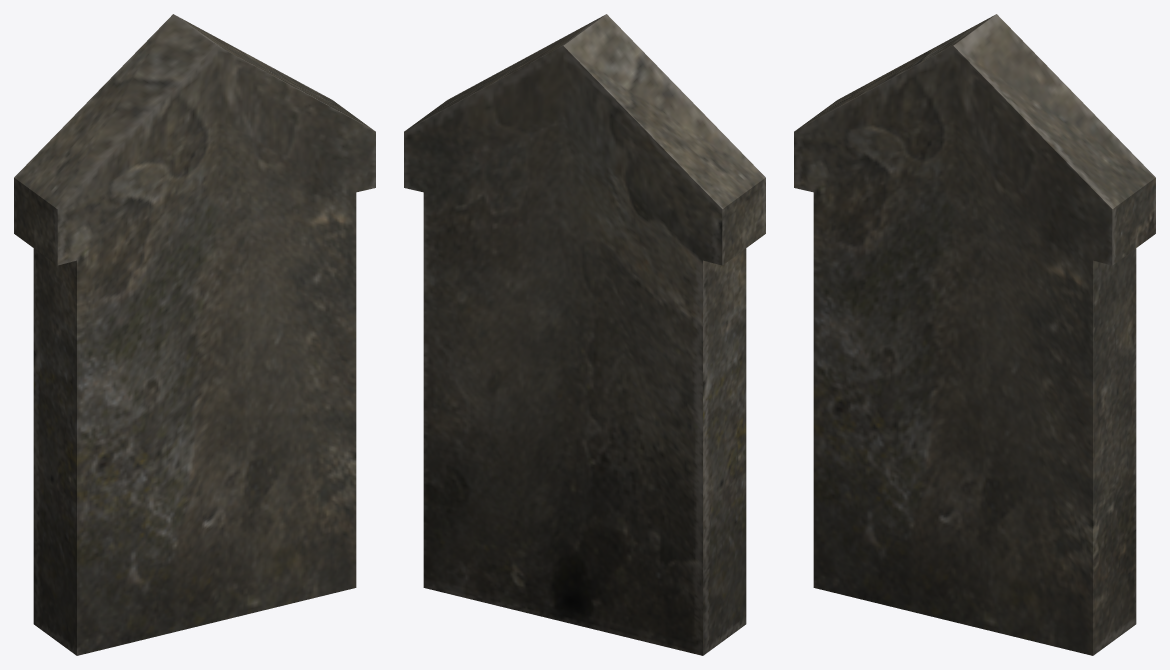
The model's file is Headstone_7.fbx.
The picture shows the model from 3 angles, left to right: view 1: azimuth 30°, elevation 25°; view 2: azimuth 150°, elevation 25°; view 3: azimuth 330°, elevation 25°; orthographic projection.
Visible parts, largest first — view 1: Headstone_7; view 2: Headstone_7; view 3: Headstone_7.
Boxes of the visible parts, box(x1,y1,x2,y2) form: Headstone_7: box(14, 14, 375, 655); Headstone_7: box(404, 14, 765, 655); Headstone_7: box(794, 14, 1155, 655).
Size of the model in its own units: 50.09 by 86.61 by 11.84.
